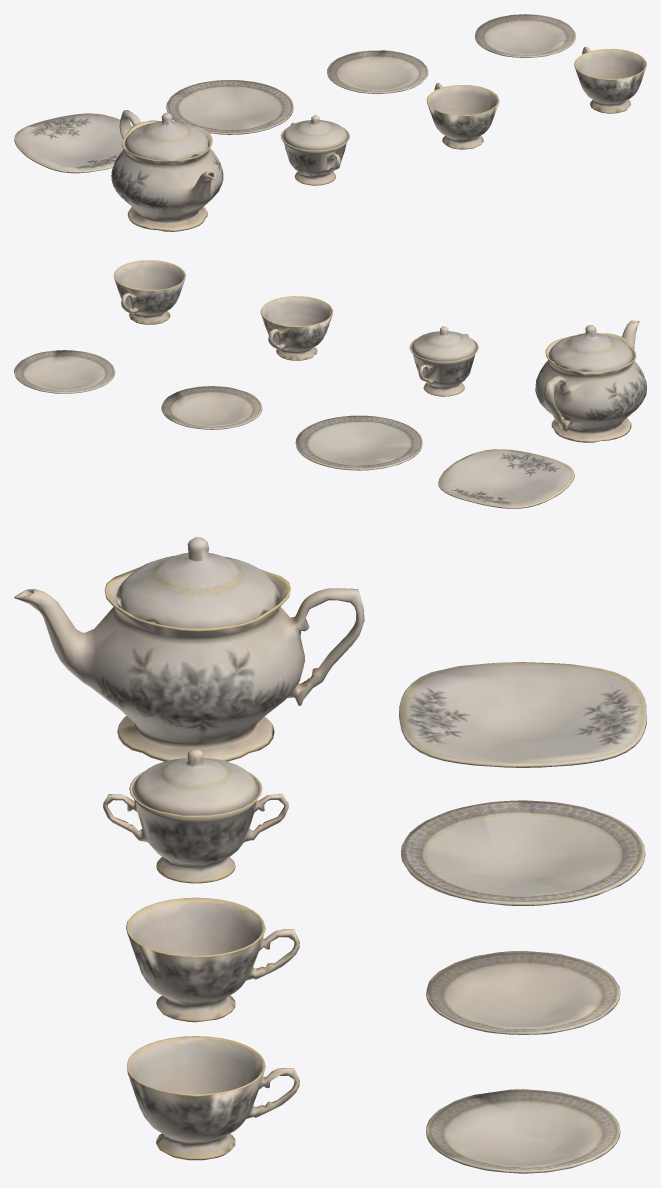
The model's file is p_tea_set_01.glb.
3 renders of one model, top to bottom at view 1: azimuth 30°, elevation 25°; view 2: azimuth 150°, elevation 25°; view 3: azimuth 270°, elevation 25°, orthographic. The views are drawn at different scales.
Parts seen in each view (by area): view 1: tea_set_01_plate_large_square_01; view 2: tea_set_01_plate_large_square_01; view 3: tea_set_01_plate_large_square_01.
Boxes of the visible parts, x1=… form: tea_set_01_plate_large_square_01: x1=14, y1=14, x2=646, y2=231; tea_set_01_plate_large_square_01: x1=14, y1=260, x2=646, y2=508; tea_set_01_plate_large_square_01: x1=14, y1=537, x2=646, y2=1173.
Size of the model in its own units: 0.918 by 0.165 by 0.4835.
1 material, 1 textured.
